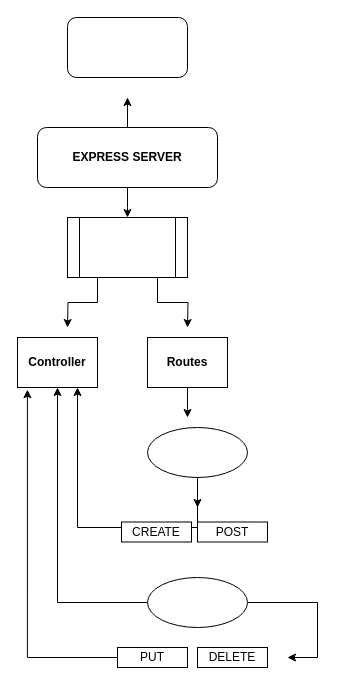
Image size: 343x685. Some labels were removed from this diagram. Here are the shapes that lost their labels. From the top down, the centre of each, then its label:
[127,47]: MONGO DB
[127,247]: ROUTER
[197,452]: Authentication
[197,602]: Authorization
